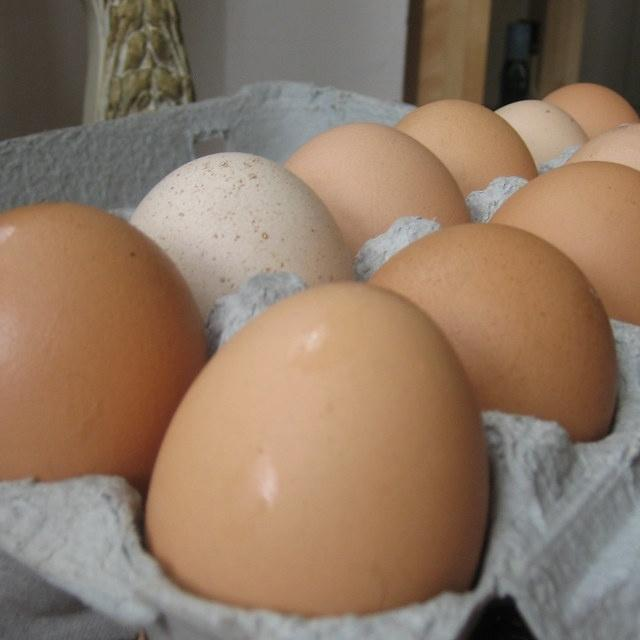egg: (143, 280, 490, 617), (0, 200, 208, 487), (367, 221, 619, 442), (128, 150, 355, 324), (489, 160, 640, 348), (283, 121, 471, 263), (394, 98, 538, 201), (565, 121, 640, 287), (493, 98, 588, 172), (542, 81, 640, 139)
